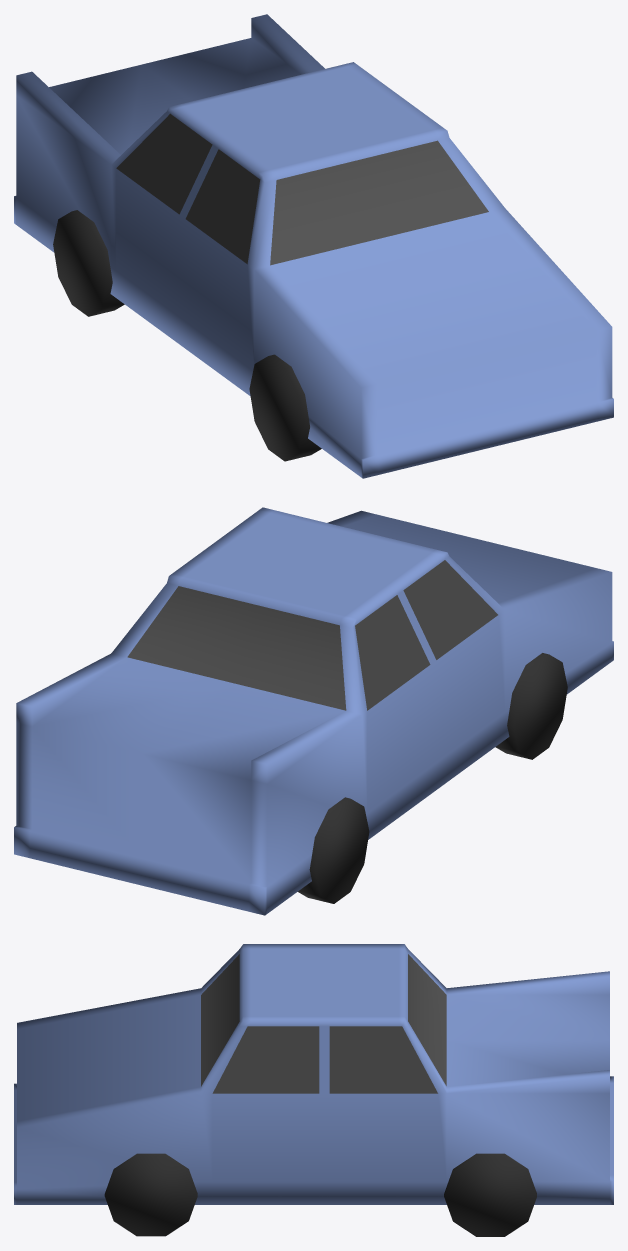
The model's file is car.fbx.
3 renders of one model, top to bottom at view 1: azimuth 30°, elevation 25°; view 2: azimuth 150°, elevation 25°; view 3: azimuth 270°, elevation 25°, orthographic. The views are drawn at different scales.
Visible parts, largest first — view 1: Cube, Cylinder_003, Cylinder_002; view 2: Cube, Cylinder_003, Cylinder_002; view 3: Cube, Cylinder_001, Cylinder.
Boxes of the visible parts, x1,y1,x2,y2 form: Cube: (14,14,613,478); Cylinder_003: (249,354,321,461); Cylinder_002: (53,210,124,316); Cube: (14,507,613,915); Cylinder_003: (495,653,567,759); Cylinder_002: (298,797,369,903); Cube: (14,944,613,1204); Cylinder_001: (444,1153,536,1236); Cylinder: (104,1153,197,1236).
Bounding box in the file's own units: 4.27 × 3.56 × 9.75.
